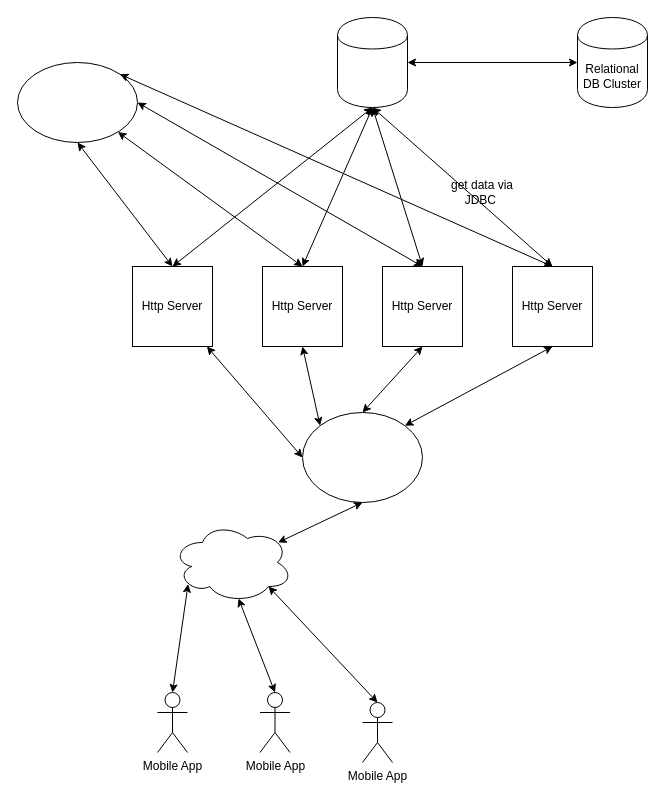
Image size: 665x801. Some labels were removed from this diagram. Each missing label, with the centre of its shape:
"DB Loading Balance Server" goes at point (77, 102).
"Loading Balance Server" goes at point (362, 457).
"Memory DB" goes at point (372, 62).
"network" goes at point (232, 562).
